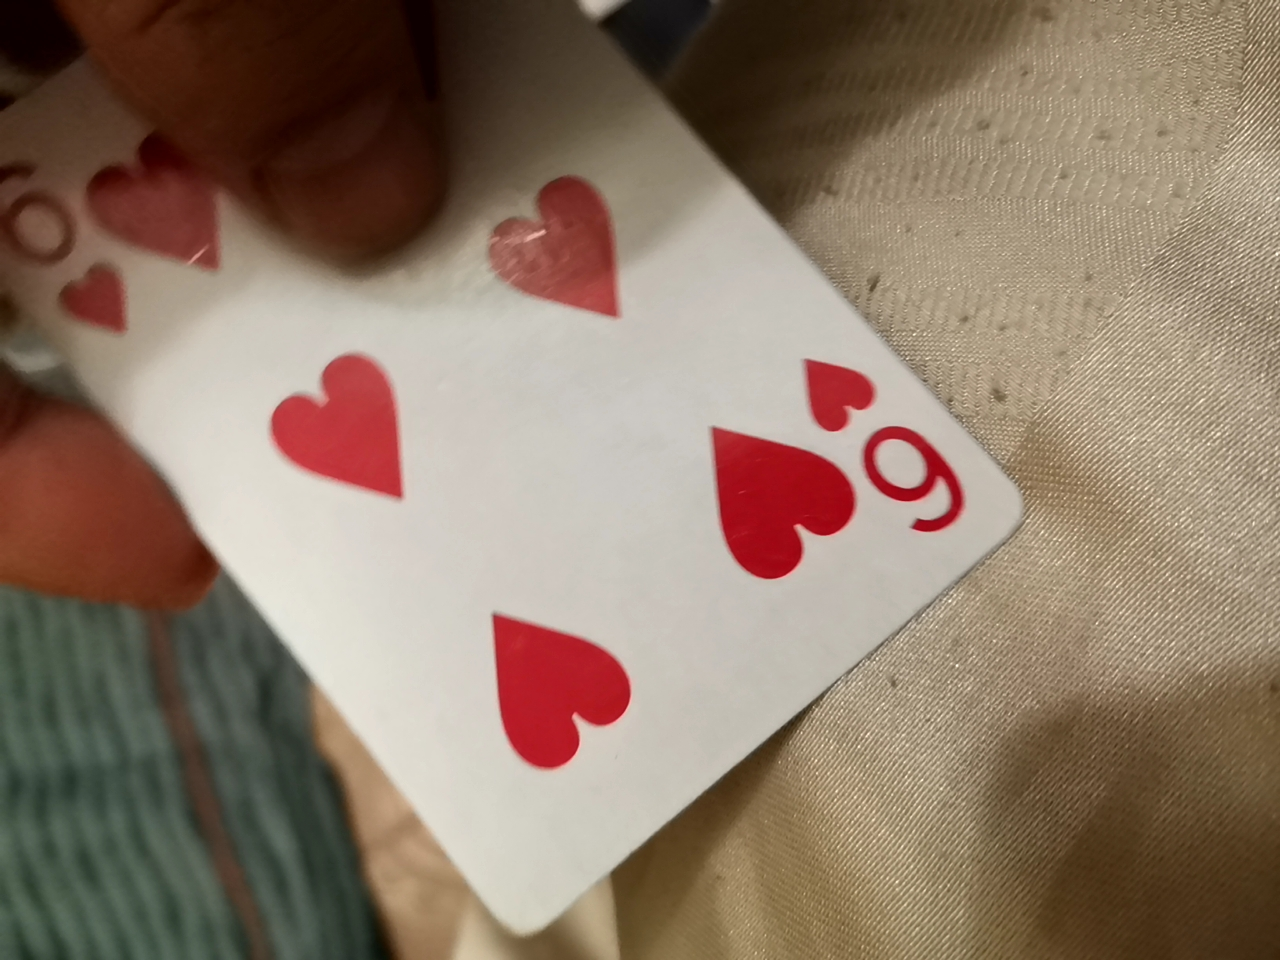hx 6: (92, 52, 1027, 943)
